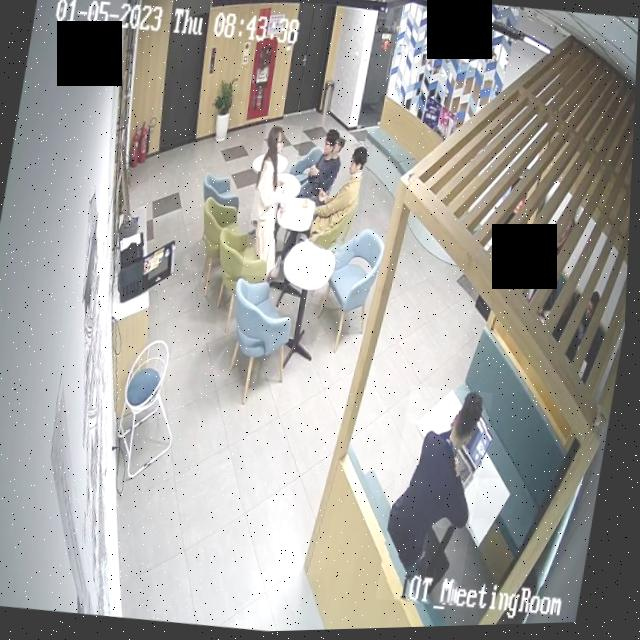person: (381, 386, 497, 611), (243, 124, 303, 281), (310, 139, 375, 256), (286, 126, 346, 204)
